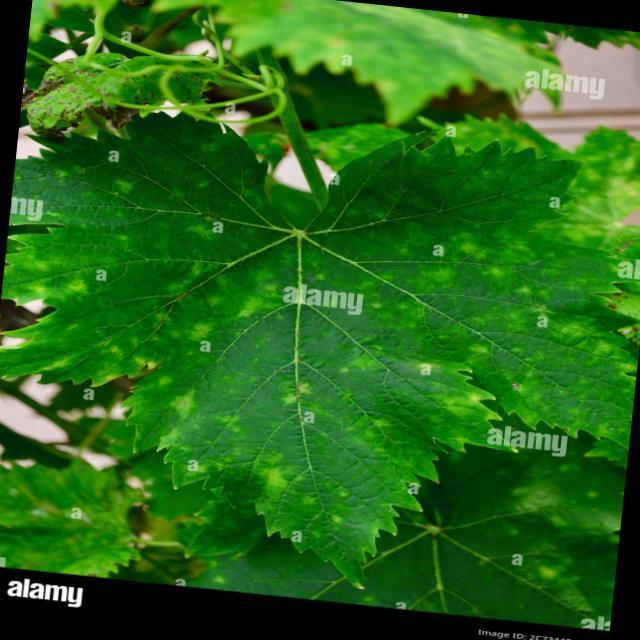Mosaic Virus: (18, 134, 640, 582)
